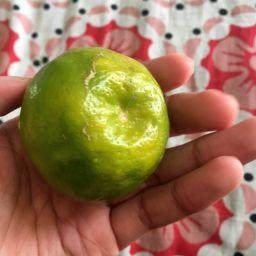Unripe: (19, 47, 169, 203)
